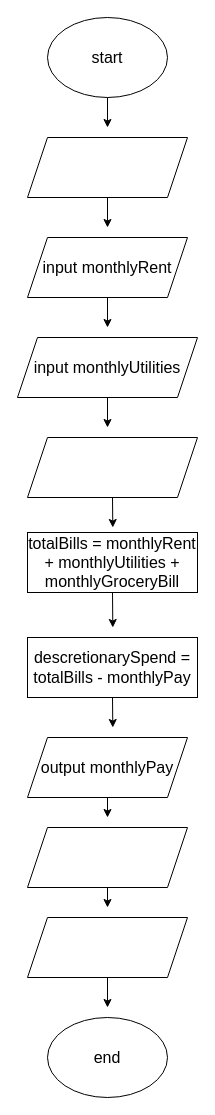
The diagram is 215 pixels wide and 1115 high, and some of its shapes have lost their labels. Each missing label, with the centre of its shape:
"input monthlyGroceryBill" goes at [112,467].
"input monthlyPay" goes at [107,167].
"output descretionarySpend" goes at [107,947].
"output totalBills" goes at [107,857].
